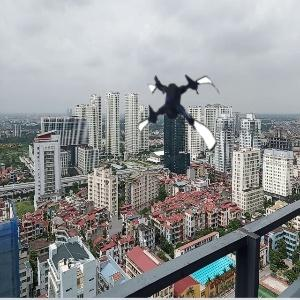drone: (133, 67, 231, 165)
